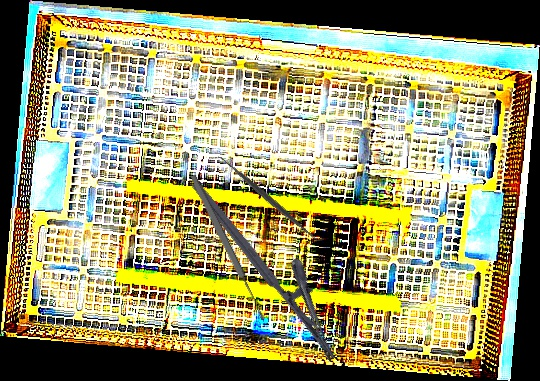Needle Holder: (190, 160, 362, 364)
Spatula Surgical: (211, 147, 325, 250)
Surgical Spoon: (188, 173, 268, 322)
